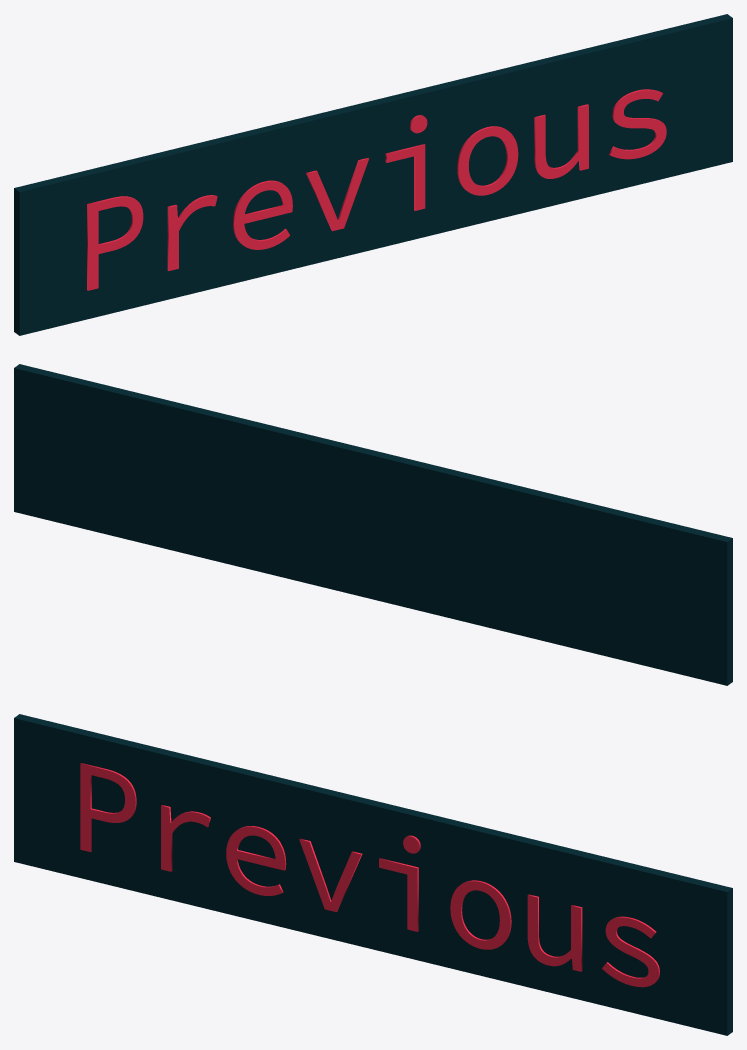
The model's file is button_previous.glb.
3 renders of one model, top to bottom at view 1: azimuth 30°, elevation 25°; view 2: azimuth 150°, elevation 25°; view 3: azimuth 330°, elevation 25°, orthographic.
Parts seen in each view (by area): view 1: Cube, Text; view 2: Cube; view 3: Cube, Text.
Part boxes in pixels (x1,y1,x2,y2): Cube: (14, 14, 732, 335); Text: (87, 89, 666, 290); Cube: (14, 364, 732, 685); Cube: (14, 714, 732, 1035); Text: (80, 763, 659, 987).
Bounding box in the file's own units: 3.69 × 0.7116 × 0.06.
